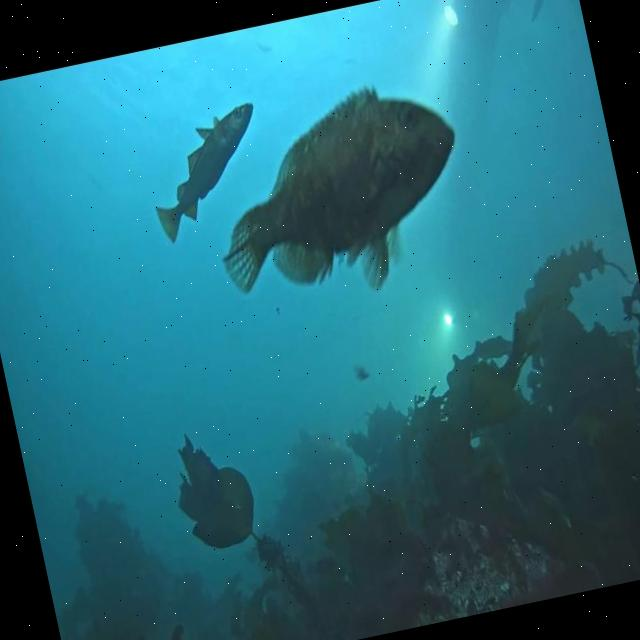fish: (193, 69, 482, 319), (138, 99, 278, 246), (523, 0, 554, 21)
